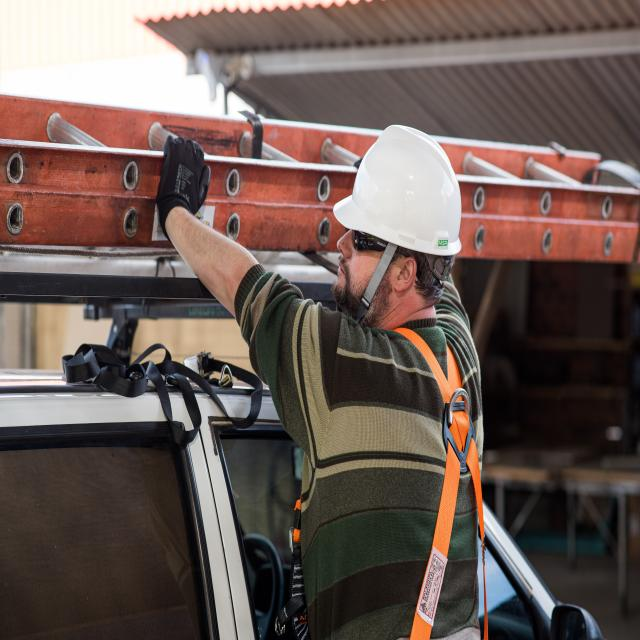capacete: (330, 118, 466, 265)
luva: (152, 132, 214, 239)
